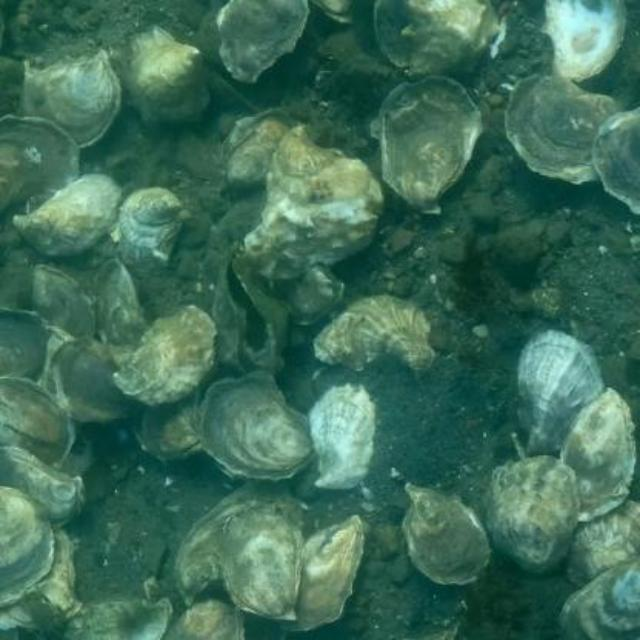Oyster-Closed: (246, 126, 385, 280), (175, 479, 304, 608), (379, 75, 483, 216), (507, 76, 625, 183), (200, 372, 314, 482), (487, 455, 580, 573), (517, 330, 605, 454), (114, 304, 217, 406), (17, 51, 123, 150), (218, 500, 301, 622), (279, 516, 366, 631), (314, 295, 435, 376), (562, 388, 636, 520), (113, 27, 209, 124), (310, 382, 395, 489), (14, 173, 122, 256), (405, 484, 491, 584), (0, 523, 81, 628), (48, 338, 140, 423), (402, 0, 500, 77), (0, 117, 80, 211), (221, 0, 309, 82), (558, 559, 638, 638), (566, 499, 638, 585), (0, 450, 84, 523), (0, 488, 53, 603), (224, 108, 301, 186), (118, 187, 183, 276), (91, 258, 151, 346), (134, 389, 203, 459), (32, 263, 96, 337), (60, 597, 172, 638), (595, 107, 638, 213), (270, 264, 343, 324), (165, 588, 245, 638), (0, 306, 49, 378), (35, 324, 75, 391)
Oyster-Open: (212, 243, 290, 376), (0, 376, 76, 466)
